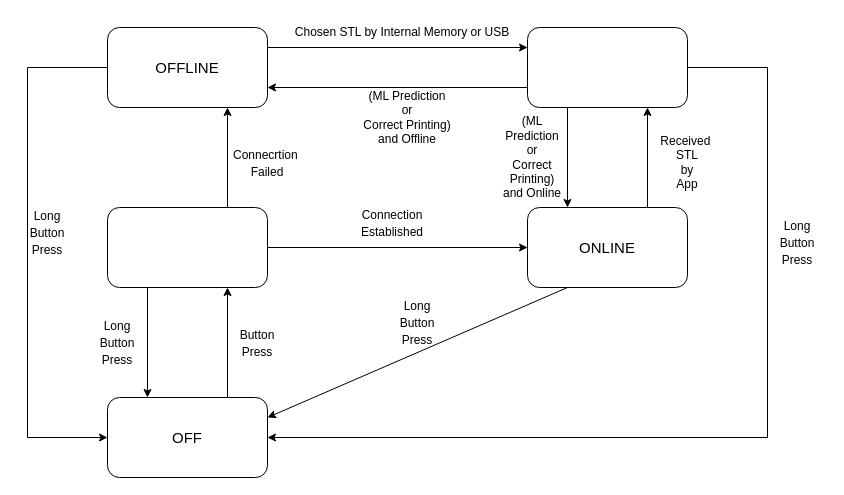
Some shapes in this 844 by 495 pixel diagram are drawn without their labels. Here are the shapes that lost their labels. From the top down, the centre of each, then its label:
At [607,67]: "PRINTING".
At [187,247]: "INITIALIZATION".
